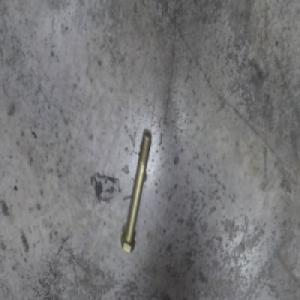Bolt: (120, 133, 154, 252)
